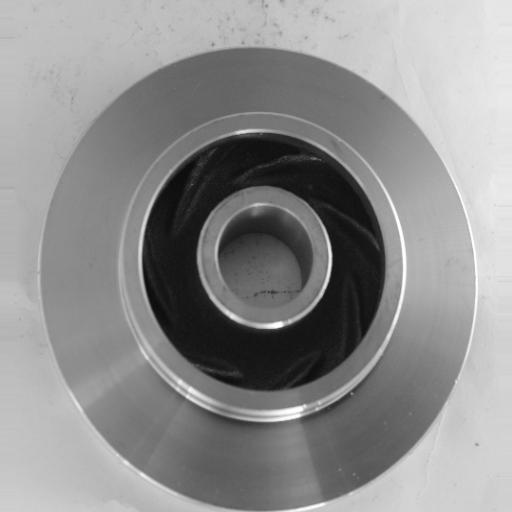polished_casting: (38, 46, 480, 512)
